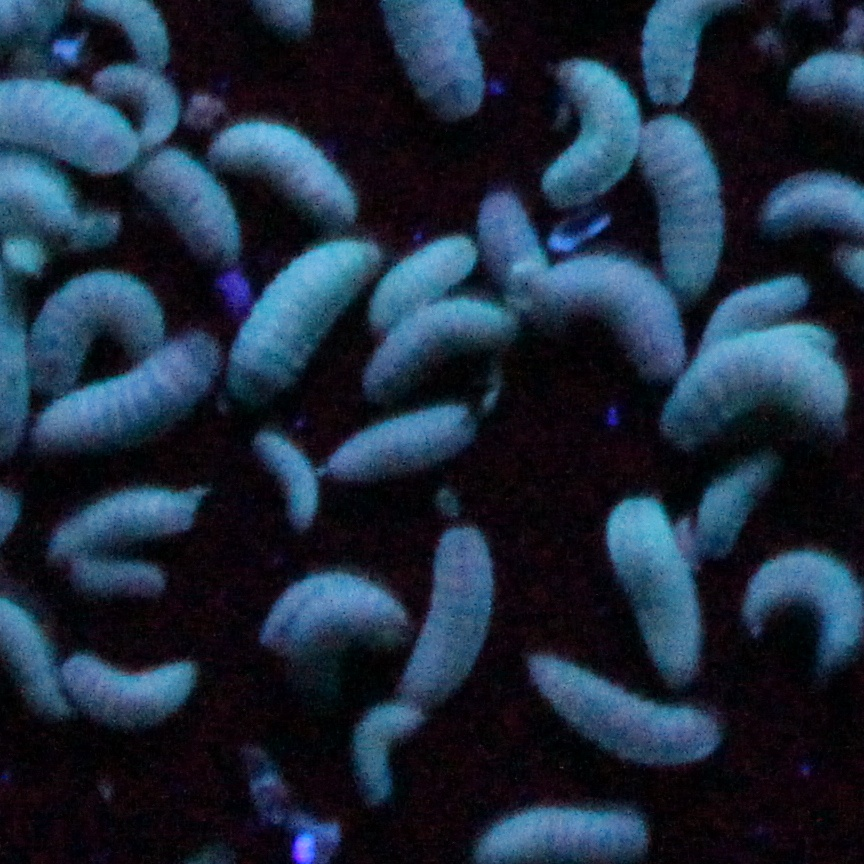larve: (229, 244, 368, 415), (33, 340, 215, 445), (530, 657, 714, 759), (665, 338, 845, 440), (607, 494, 702, 683), (29, 272, 172, 390), (531, 259, 678, 373), (411, 522, 498, 700), (216, 127, 352, 222), (645, 125, 721, 294), (553, 60, 638, 208), (367, 302, 502, 394), (261, 573, 419, 644), (327, 405, 478, 476), (50, 483, 202, 551), (131, 159, 234, 257), (67, 652, 190, 727), (377, 236, 470, 328), (472, 810, 646, 859), (353, 702, 421, 806), (95, 61, 176, 148), (698, 461, 767, 559), (472, 190, 545, 275), (703, 279, 808, 336), (257, 430, 311, 523), (70, 554, 165, 598)
